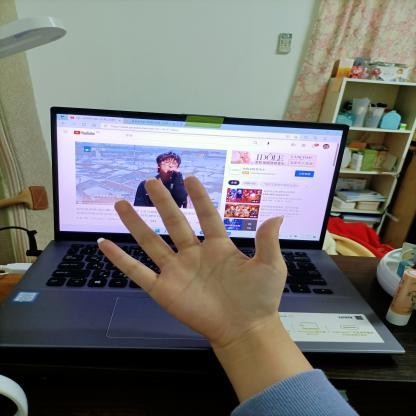bare_hand: (85, 168, 300, 352)
